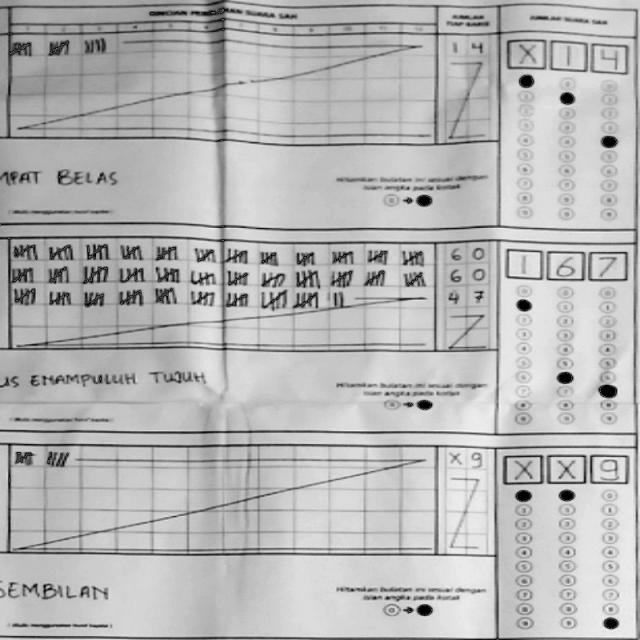Suara: (499, 34, 635, 74), (495, 243, 631, 283), (498, 451, 634, 491)
